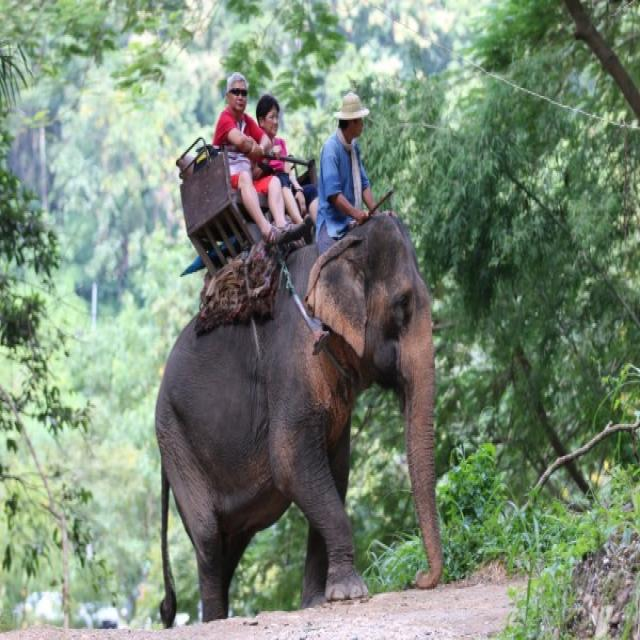Elephant: (149, 191, 458, 626)
